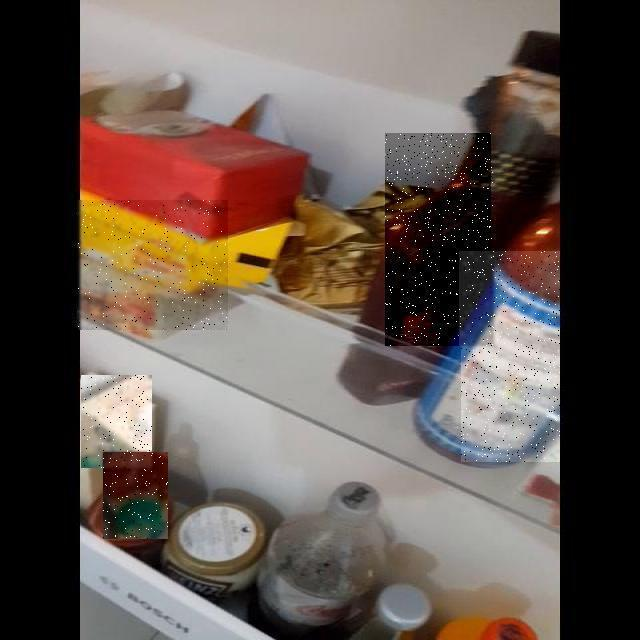Butter: (77, 200, 228, 330)
Milk: (81, 375, 152, 468)
Sauce: (386, 133, 494, 346), (461, 251, 560, 462), (103, 452, 168, 539)
